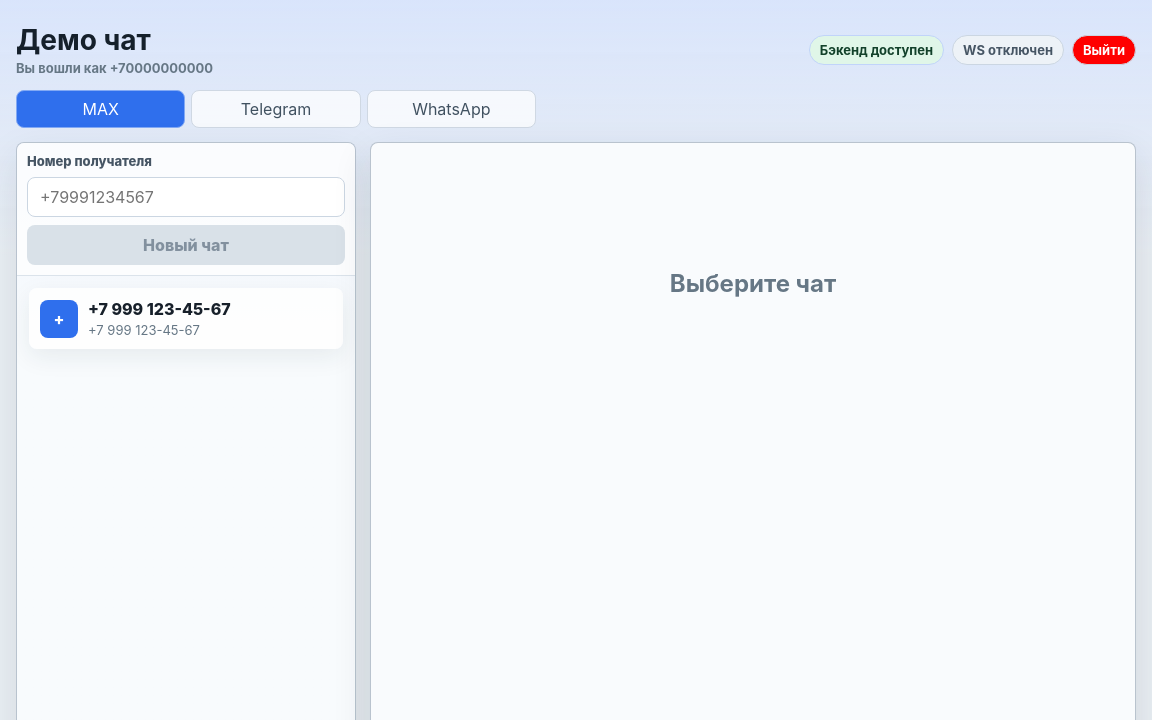
Scenario: router auth protection › opens protected chats with a stored phone and clears it on logout
The width and height of the screenshot is (1152, 720).
expect the text "Вы вошли как +70000000000" is shown: met, box [16, 60, 213, 76]
Click the button "Выйти" at (1104, 50), box [1072, 35, 1136, 65]
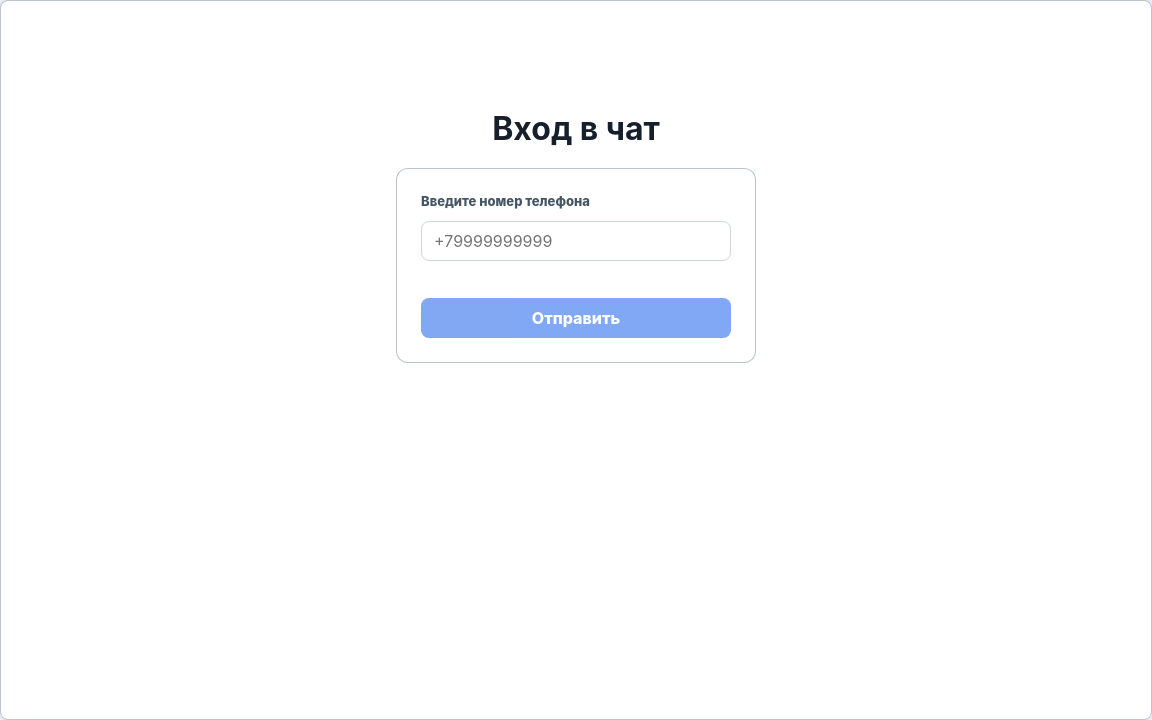
expect the heading "Вход в чат" is shown: met, box [492, 109, 660, 148]
